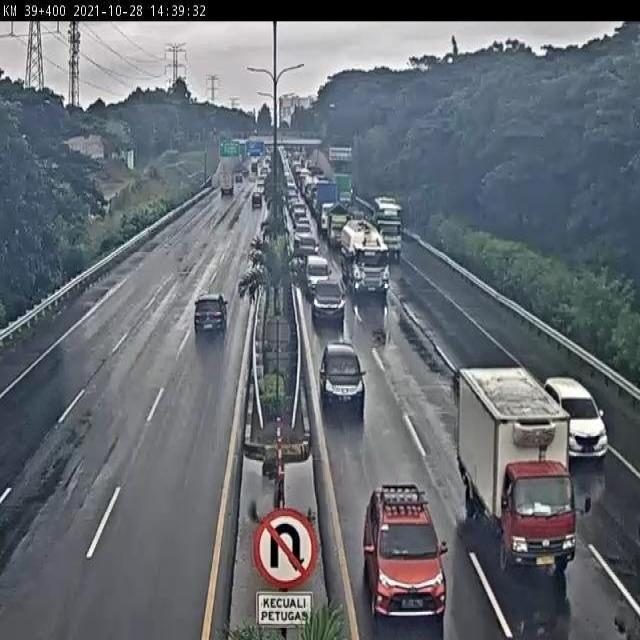Car: (358, 476, 449, 634), (537, 361, 612, 464), (314, 345, 372, 427), (186, 288, 234, 342), (312, 281, 347, 329), (303, 251, 333, 305), (298, 234, 322, 268), (249, 189, 265, 212), (296, 217, 312, 229)
Truck: (453, 360, 578, 587), (340, 218, 389, 298), (375, 190, 407, 257), (315, 180, 339, 232), (327, 203, 353, 244), (334, 174, 353, 208), (219, 168, 235, 200)
